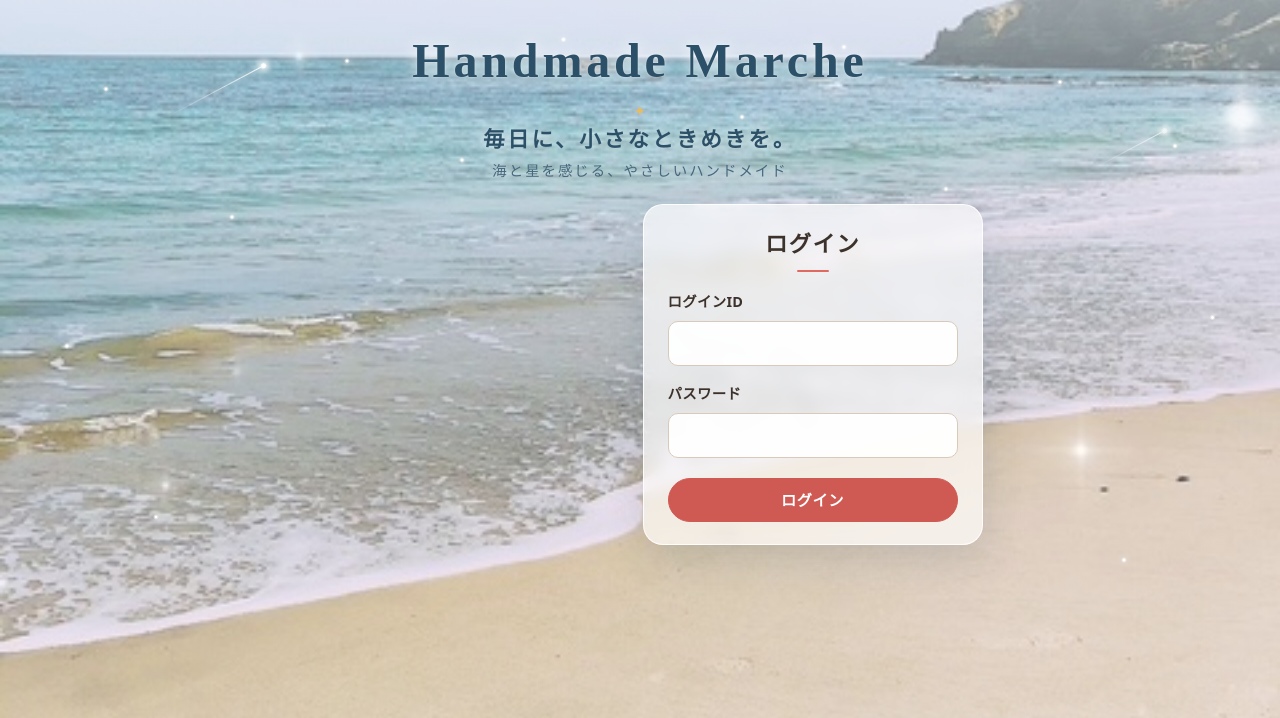
ログイン画面 › 正しいログインIDとパスワードでログインすると、商品一覧画面に移動しヘッダーに利用者名を表示する
Check: the heading "ログイン" is shown, box [765,232,860,257]
Type "user1" into the field labelled "ログインID" at (813, 344), box [668,321,958,366]
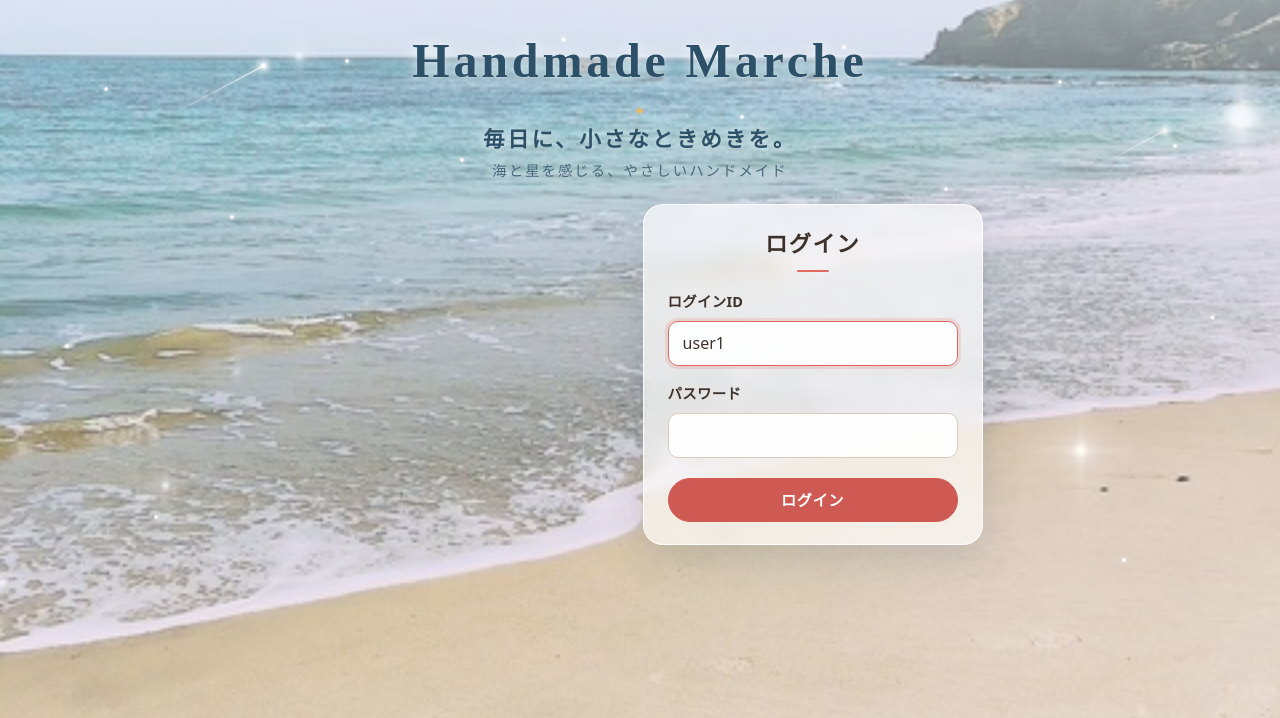
Type "password123" into the password field labelled "パスワード" at (813, 436), box [668,413,958,458]
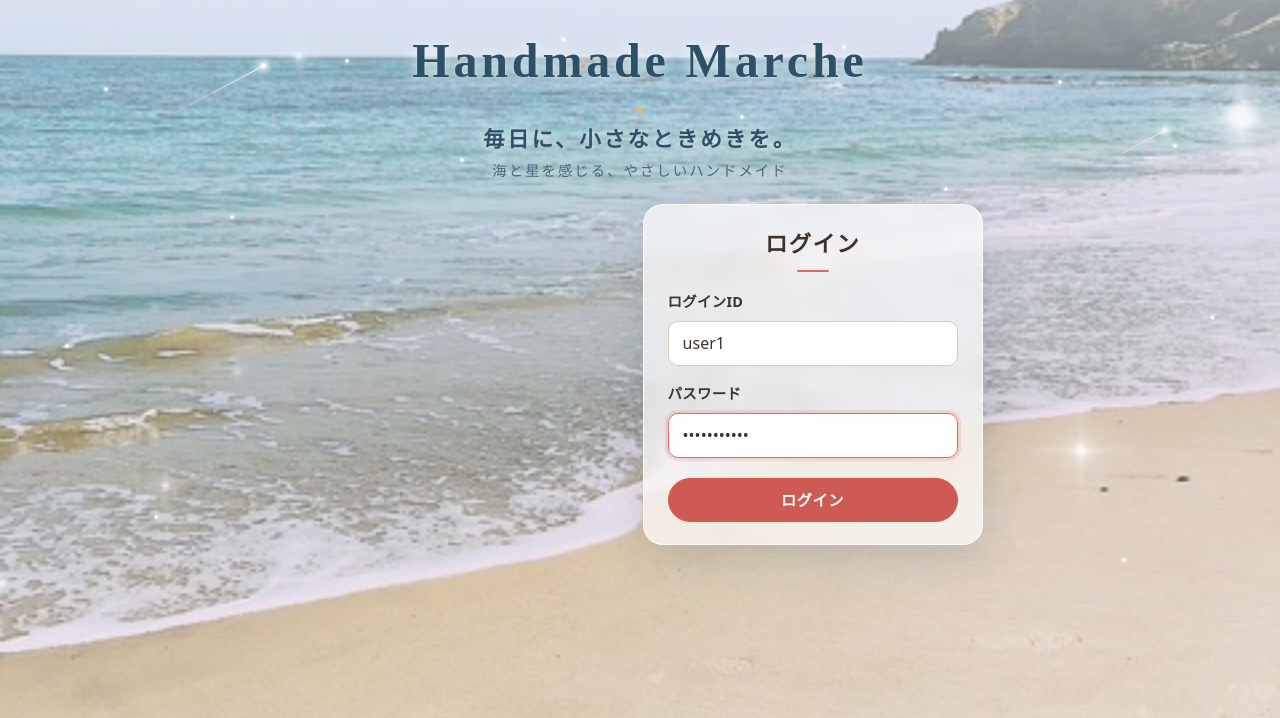
Click the button "ログイン" at (813, 500), box [668,478,958,522]
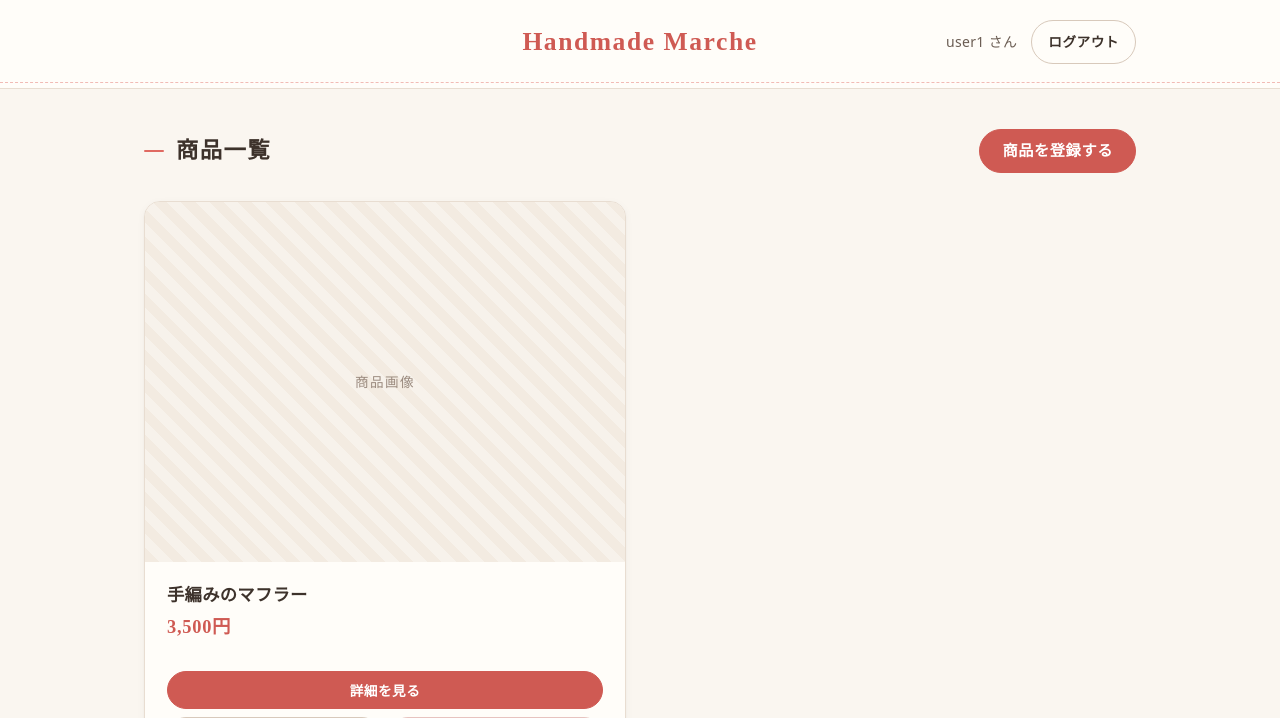
Check: the heading "商品一覧" is shown, box [176,138,271,163]
Check: the heading "手編みのマフラー" is shown, box [167,583,308,606]
Check: the text "user1 さん" is shown, box [946,30,1017,54]
